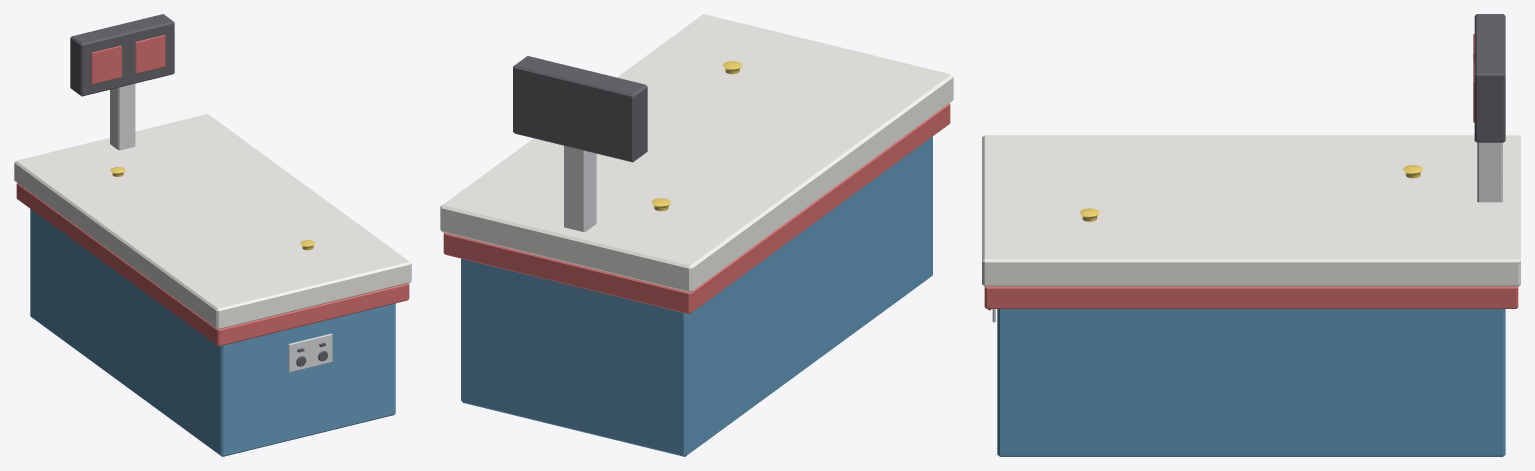
The model's file is amusement-arcade-and-seaside-pier-air-hockey-table-33d78205__35407.glb.
The picture shows the model from 3 angles, left to right: view 1: azimuth 30°, elevation 25°; view 2: azimuth 150°, elevation 25°; view 3: azimuth 270°, elevation 25°; orthographic projection. The views are drawn at different scales.
Visible parts, largest first — view 1: air-hockey-table; view 2: air-hockey-table; view 3: air-hockey-table.
Boxes of the visible parts, x1=… form: air-hockey-table: x1=14, y1=14, x2=411, y2=456; air-hockey-table: x1=440, y1=14, x2=953, y2=456; air-hockey-table: x1=982, y1=14, x2=1520, y2=456.
Size of the model in its own units: 1.16 by 1.54 by 2.1.
